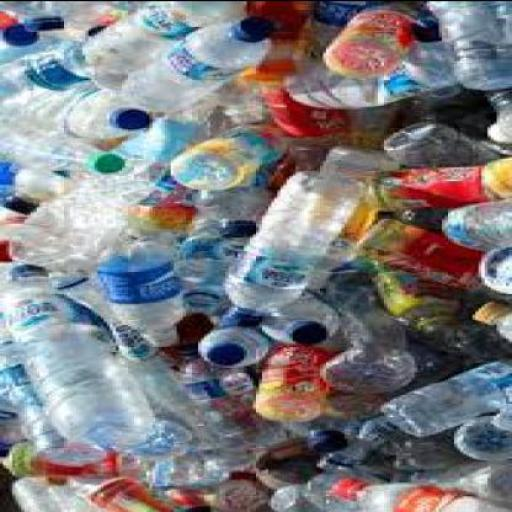plastic: (0, 1, 510, 510), (0, 262, 156, 443), (217, 166, 357, 324), (116, 339, 254, 462), (293, 142, 399, 290), (0, 334, 116, 466), (6, 175, 174, 263), (119, 14, 274, 108), (280, 38, 490, 106), (244, 0, 341, 134), (356, 214, 509, 298), (310, 269, 412, 391), (174, 356, 312, 445), (375, 353, 509, 435), (79, 2, 204, 88), (94, 234, 189, 340), (45, 267, 149, 359), (118, 98, 220, 191), (0, 78, 146, 135), (0, 108, 126, 173), (170, 210, 244, 312), (167, 121, 283, 185), (424, 2, 510, 88), (314, 2, 415, 73), (363, 255, 460, 327), (0, 9, 68, 108), (183, 163, 274, 235), (244, 341, 326, 420), (356, 161, 497, 206), (332, 475, 509, 510), (360, 416, 472, 471), (378, 118, 509, 165), (6, 135, 97, 202), (171, 344, 250, 420), (256, 288, 335, 341), (9, 438, 113, 476), (436, 195, 510, 248), (408, 318, 509, 356), (76, 471, 171, 510), (302, 466, 381, 510), (10, 472, 100, 510), (430, 458, 509, 500), (195, 320, 271, 362), (250, 437, 314, 485), (195, 70, 259, 118), (144, 450, 222, 485), (314, 418, 368, 467), (128, 164, 194, 204), (192, 428, 254, 470), (451, 413, 509, 457), (58, 2, 122, 41), (406, 341, 457, 389), (122, 202, 189, 230), (320, 386, 378, 418), (28, 48, 79, 84), (469, 243, 509, 287), (216, 478, 270, 510), (238, 54, 299, 80), (116, 448, 165, 480), (478, 88, 509, 136), (268, 484, 322, 510), (0, 396, 22, 448), (229, 14, 268, 41), (482, 154, 509, 192), (159, 487, 210, 507), (202, 339, 244, 363), (0, 189, 39, 214), (286, 318, 323, 343), (369, 458, 411, 480), (214, 216, 256, 238), (104, 106, 146, 128), (304, 426, 342, 450), (85, 149, 122, 173), (183, 288, 222, 310), (466, 299, 508, 318), (220, 306, 262, 324), (488, 398, 510, 428), (18, 15, 64, 29), (488, 305, 510, 334), (0, 23, 33, 42), (6, 260, 43, 275), (330, 476, 356, 496), (0, 238, 12, 257)
